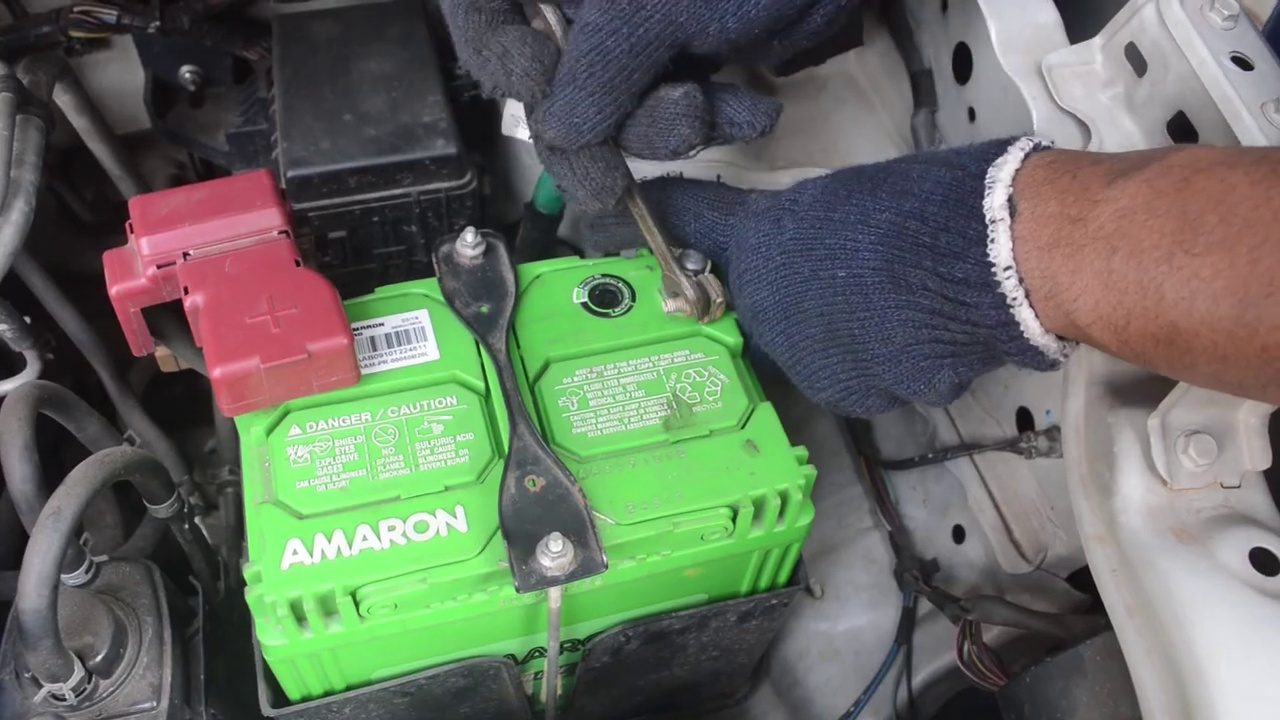battery: (238, 236, 803, 658)
neg_touched: (525, 62, 820, 333)
pos_connected: (107, 164, 356, 411)
